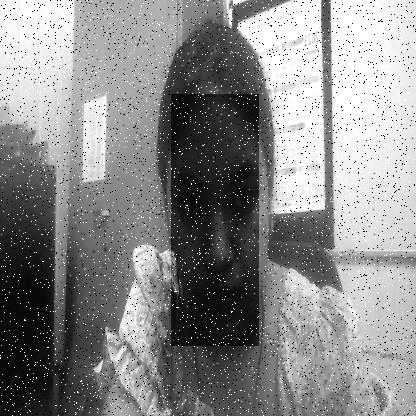Normal: (170, 94, 258, 346)
